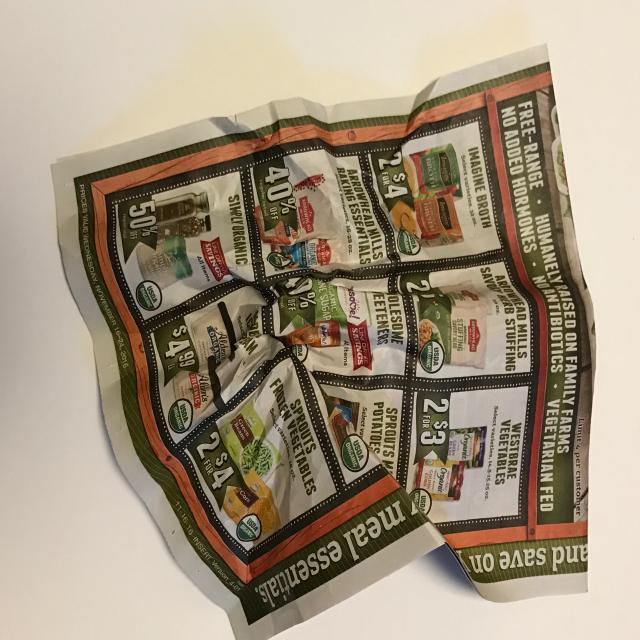paper: (61, 12, 620, 640)
